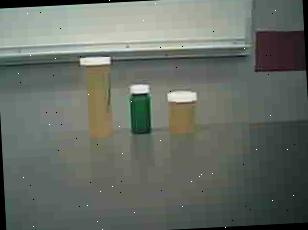Bottle A: (76, 49, 124, 147)
Bottle B: (162, 84, 201, 142)
Bottle C: (124, 78, 158, 138)
